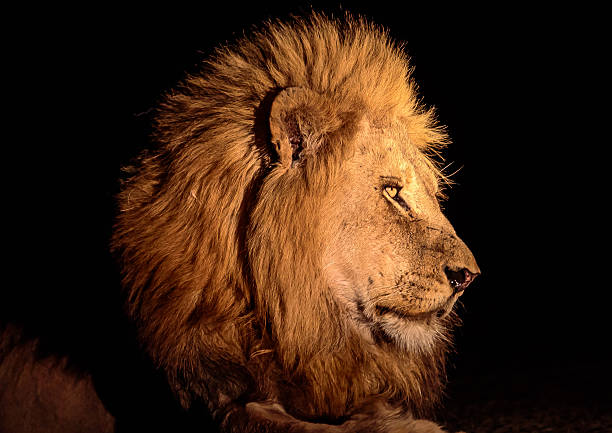lion: (93, 17, 508, 433)
